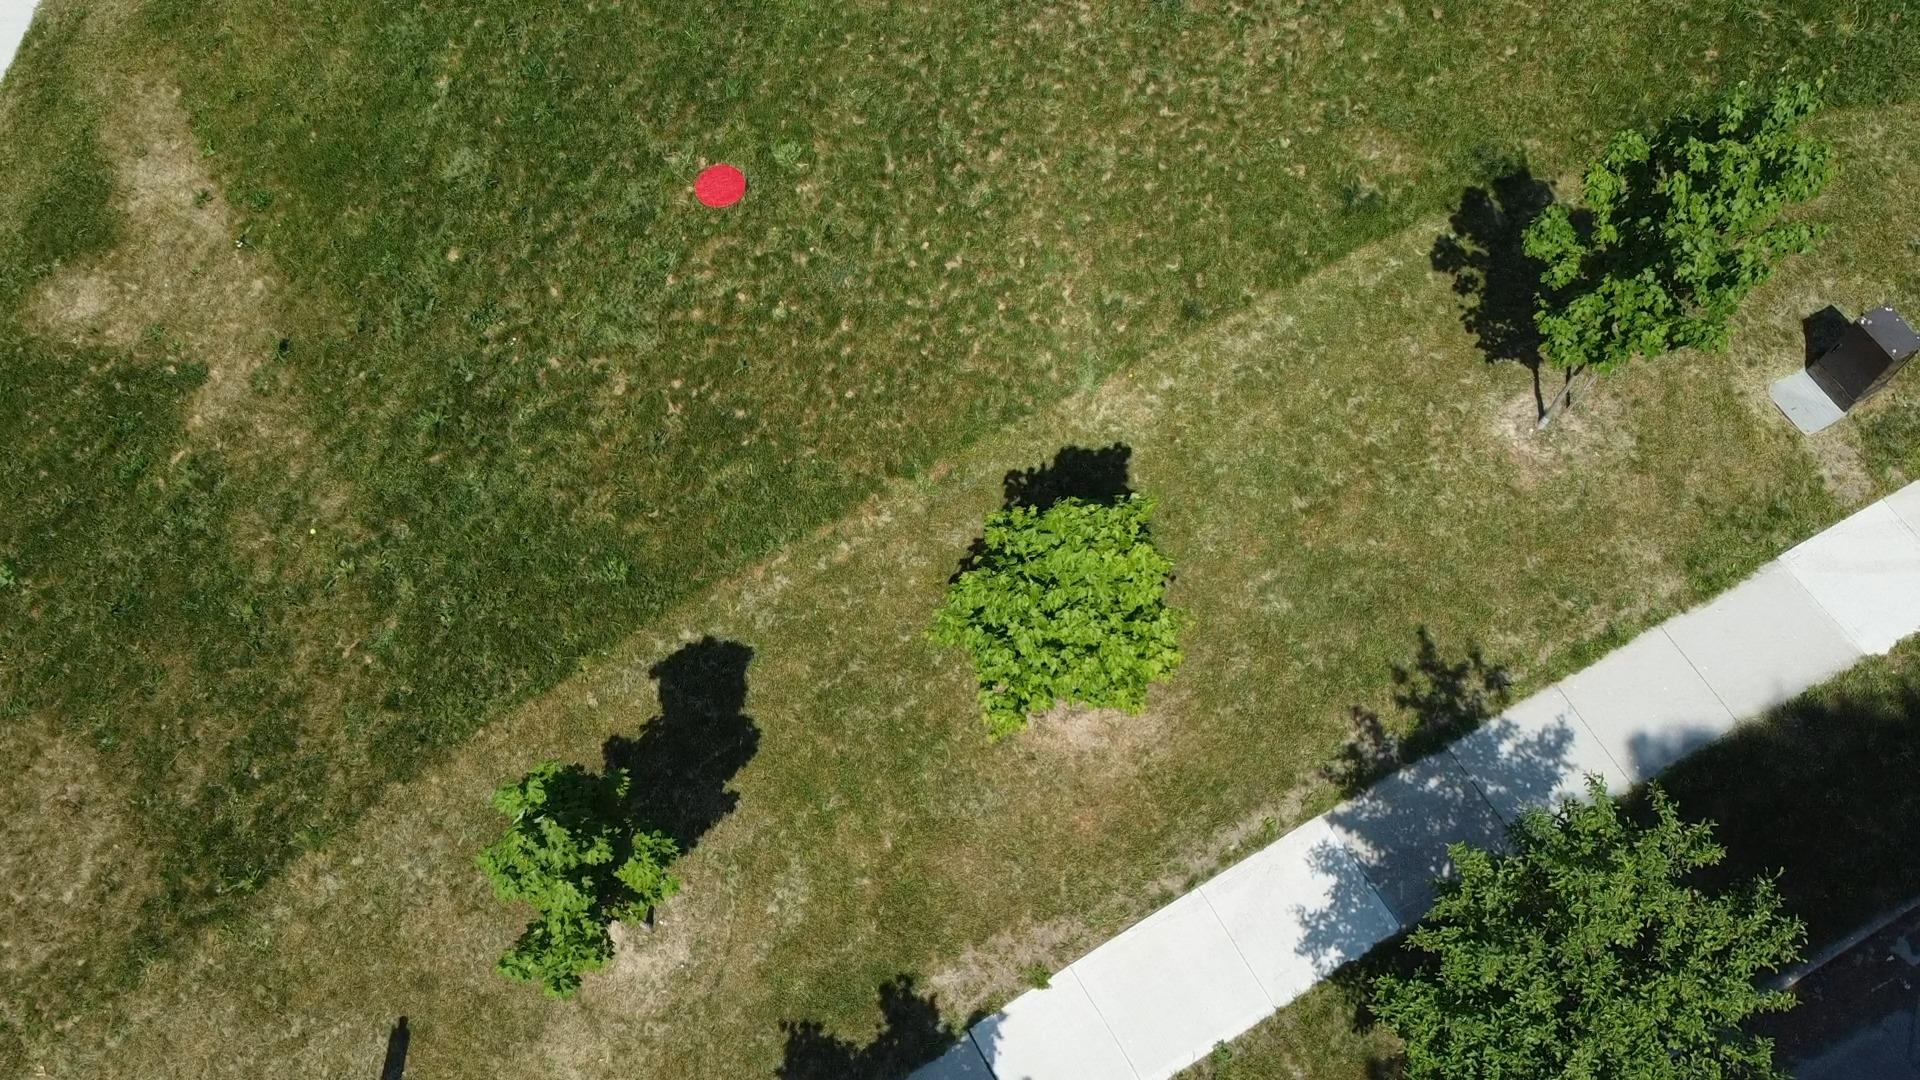Red: (692, 162, 749, 210)
